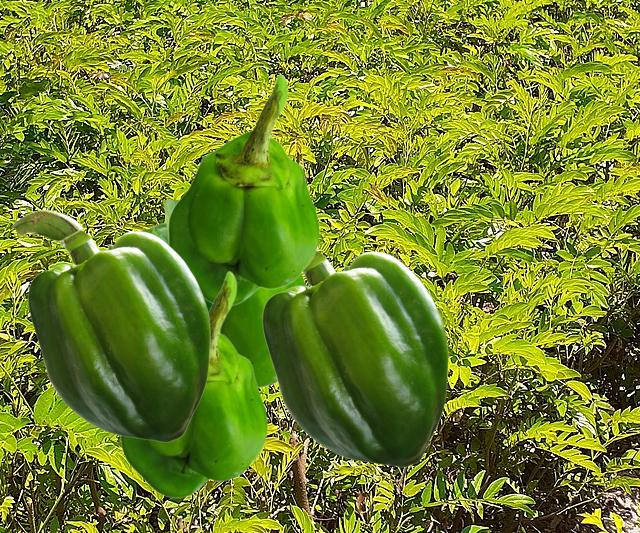bell_pepper: (11, 209, 209, 441), (261, 248, 447, 466), (167, 73, 319, 305), (120, 270, 267, 497), (222, 135, 307, 390), (141, 200, 211, 307)
